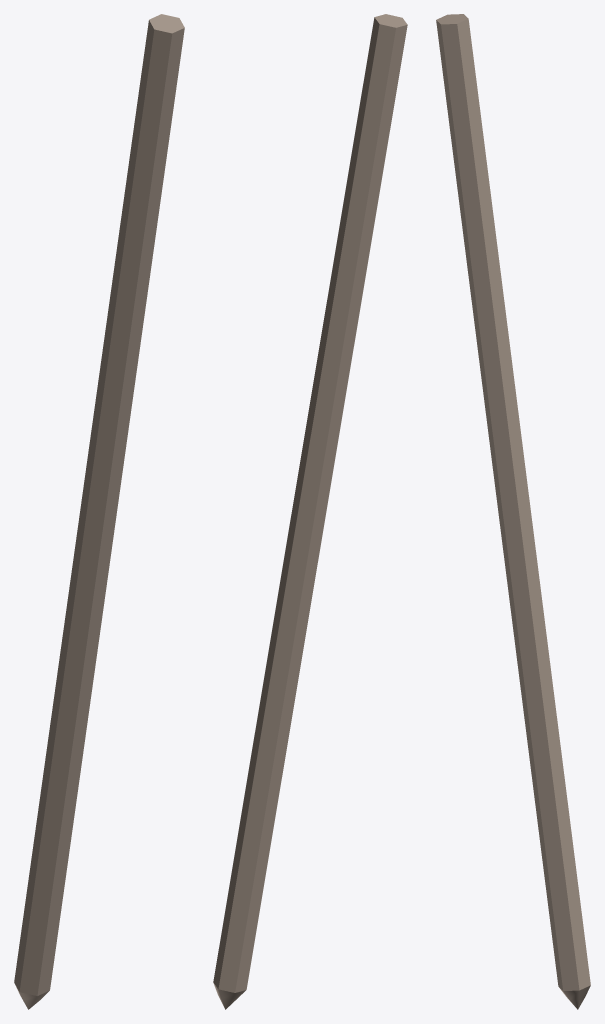
Rendered from right_post.fbx.
3 renders of one model, left to right at view 1: azimuth 90°, elevation 25°; view 2: azimuth 150°, elevation 25°; view 3: azimuth 270°, elevation 25°, orthographic. The views are drawn at different scales.
Visible parts, largest first — view 1: right_post; view 2: right_post; view 3: right_post.
Boxes of the visible parts, x1,y1,x2,y2 form: right_post: (14,14,184,1009); right_post: (213,14,407,1009); right_post: (436,14,590,1009).
Bounding box in the file's own units: 8.84 × 64.59 × 9.59.
